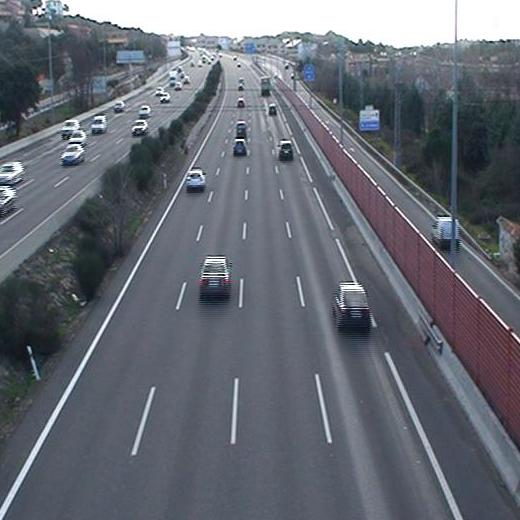car: (331, 282, 372, 328), (196, 253, 235, 296), (184, 166, 208, 188), (276, 140, 296, 158), (231, 139, 248, 156), (266, 103, 280, 116)
truck: (260, 74, 273, 98)
van: (234, 119, 250, 136)
